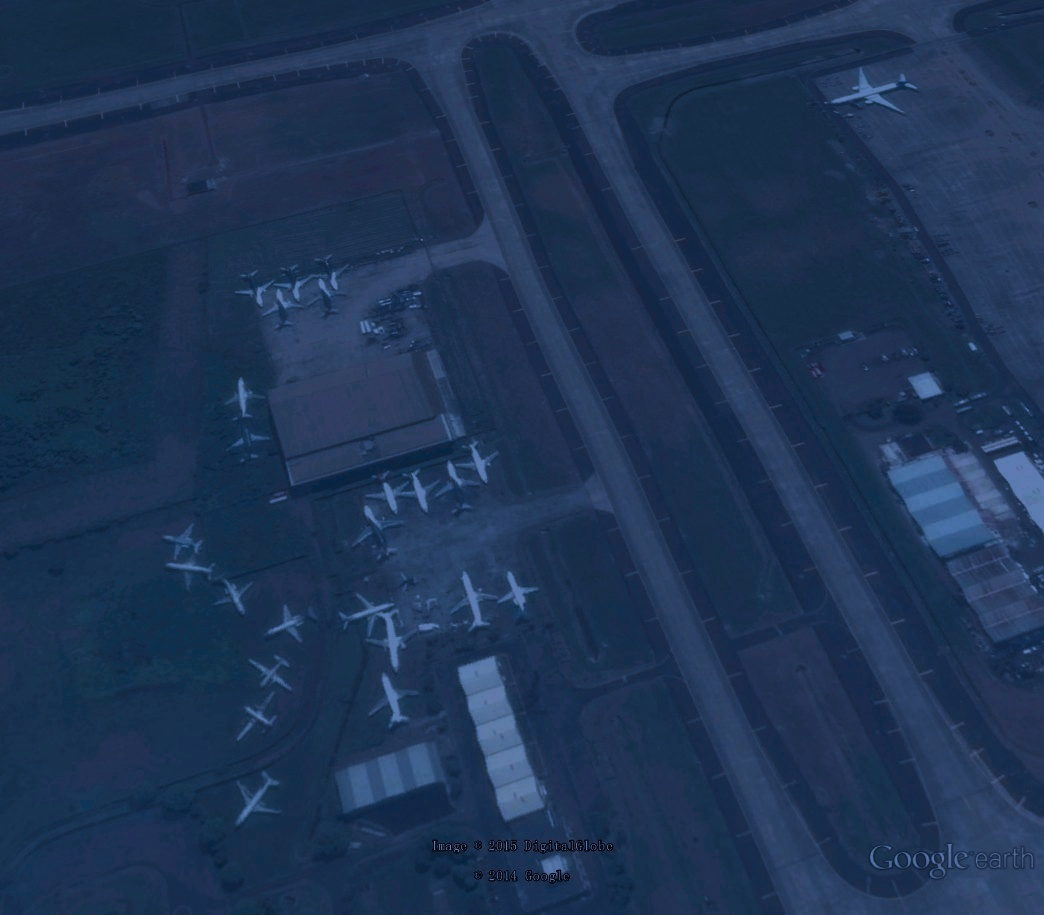aircraft: (817, 63, 924, 115), (358, 606, 424, 678), (442, 568, 502, 637), (346, 499, 406, 567), (234, 766, 289, 835), (364, 670, 424, 732), (432, 457, 486, 522), (333, 588, 400, 640), (214, 375, 273, 427), (496, 568, 546, 627), (360, 466, 414, 517), (396, 466, 447, 519), (264, 603, 321, 648), (451, 439, 504, 487), (232, 691, 280, 742), (219, 424, 274, 468), (247, 654, 298, 699), (228, 267, 277, 313), (159, 522, 210, 565), (210, 576, 258, 621), (273, 261, 318, 306), (162, 558, 220, 592), (312, 252, 351, 298)
